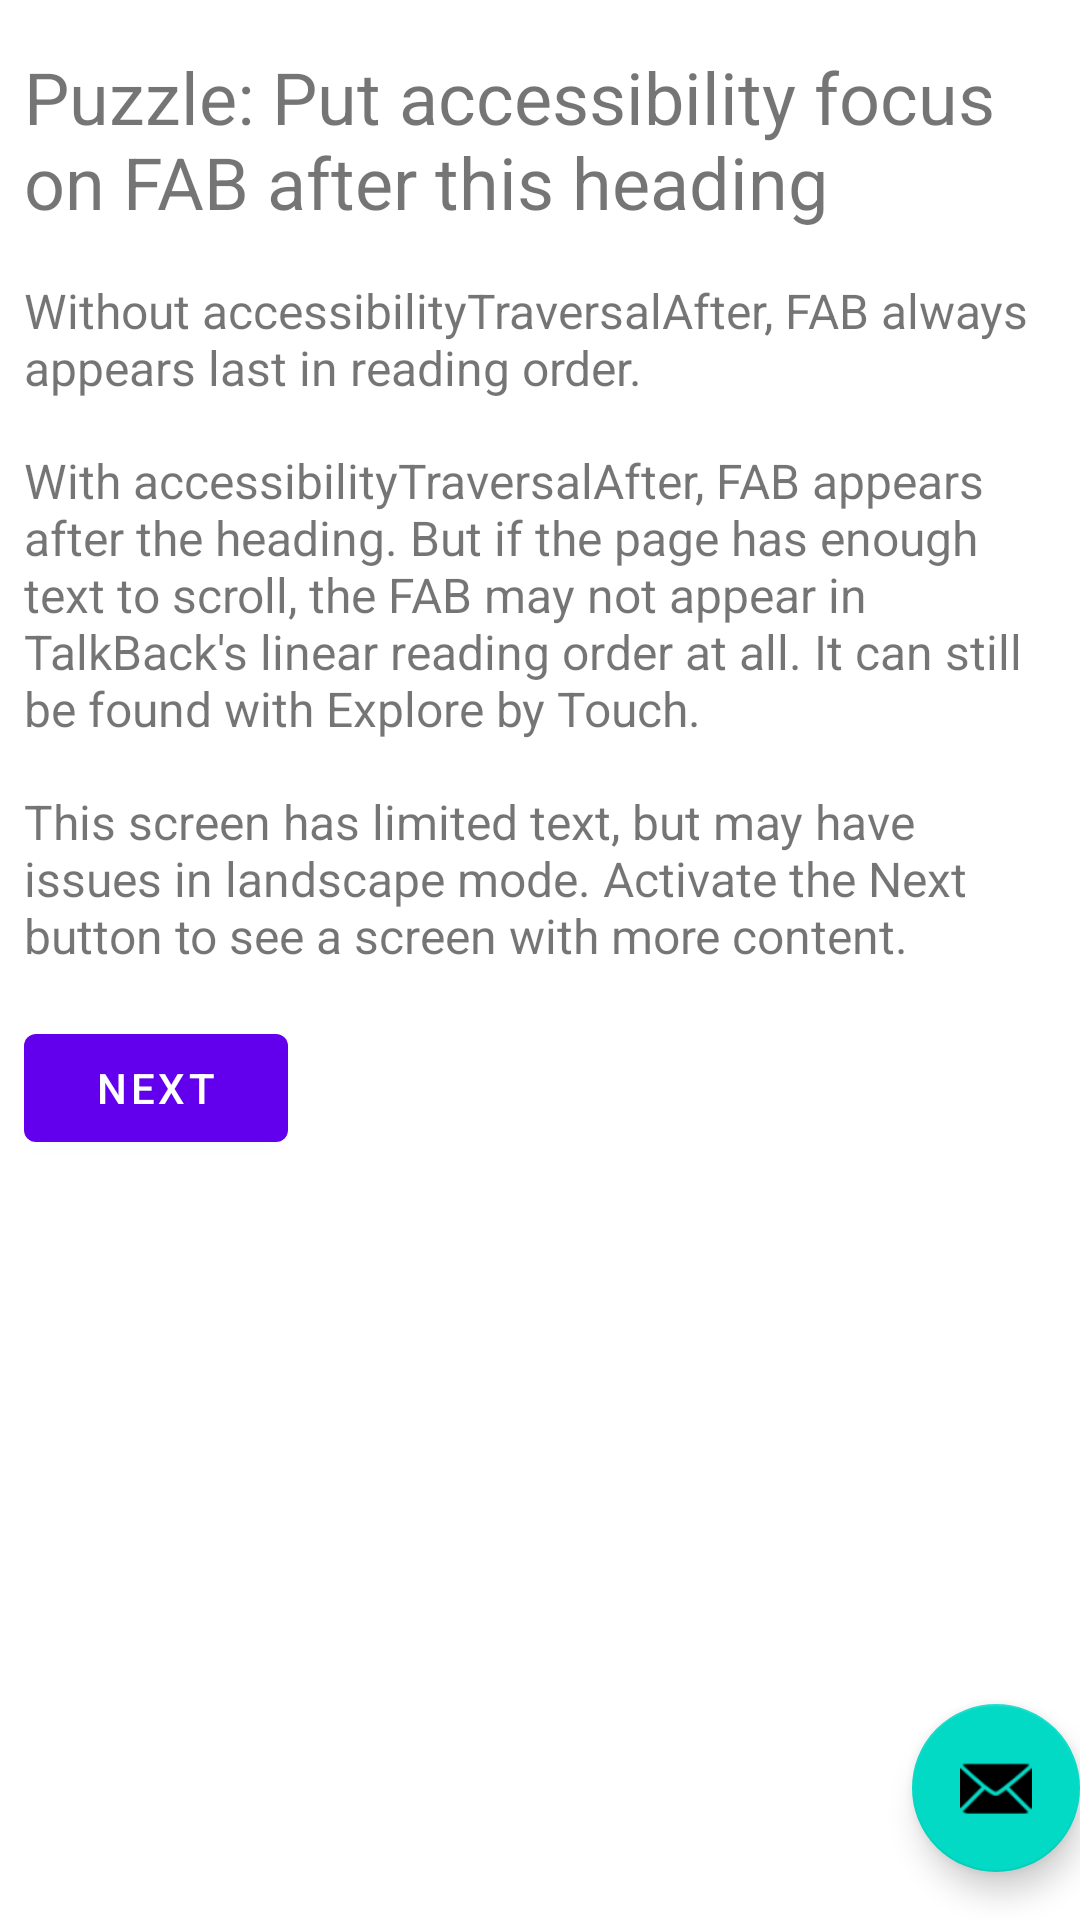

Screen size 1080px×1920px. Icon name, then its center in pixels as (x,y):
Compose message: (996,1788)
